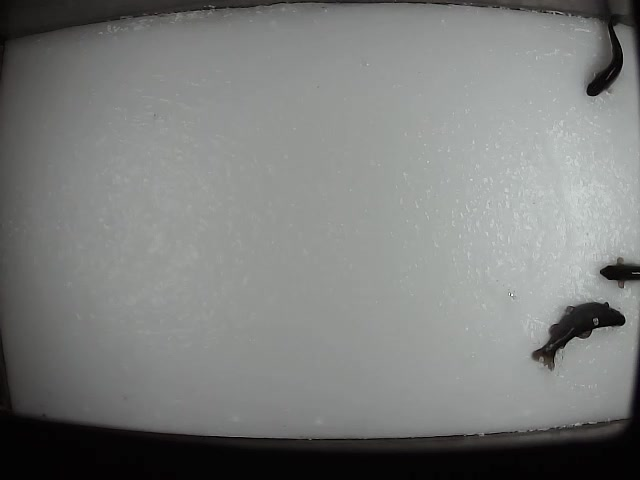Fish: (532, 302, 626, 371), (586, 15, 627, 96)
